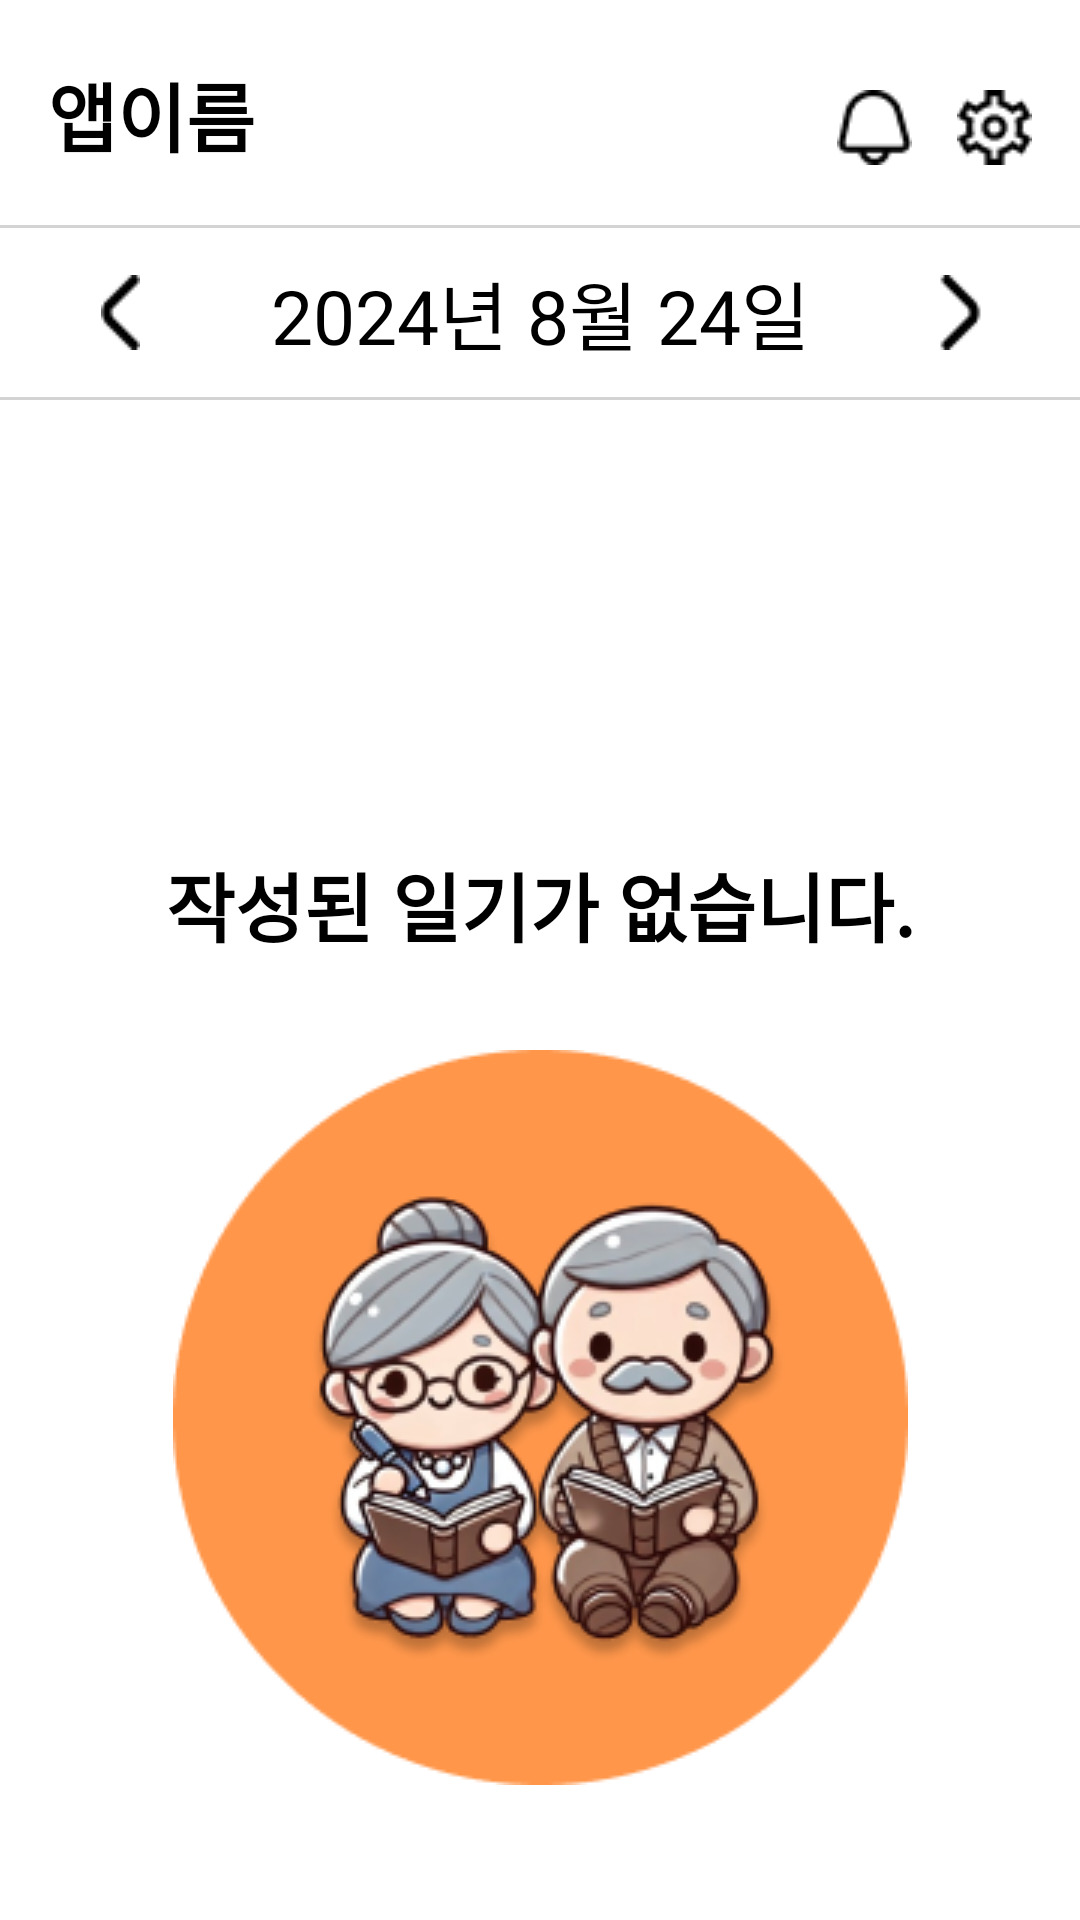

Icon bounding boxes for this 1080*1920 phone screenshot, format (x1,y1,x2,y2):
bell: (837,90,912,165)
left arrow: (101,275,140,350)
right arrow: (940,275,981,350)
setting: (957,90,1032,165)
